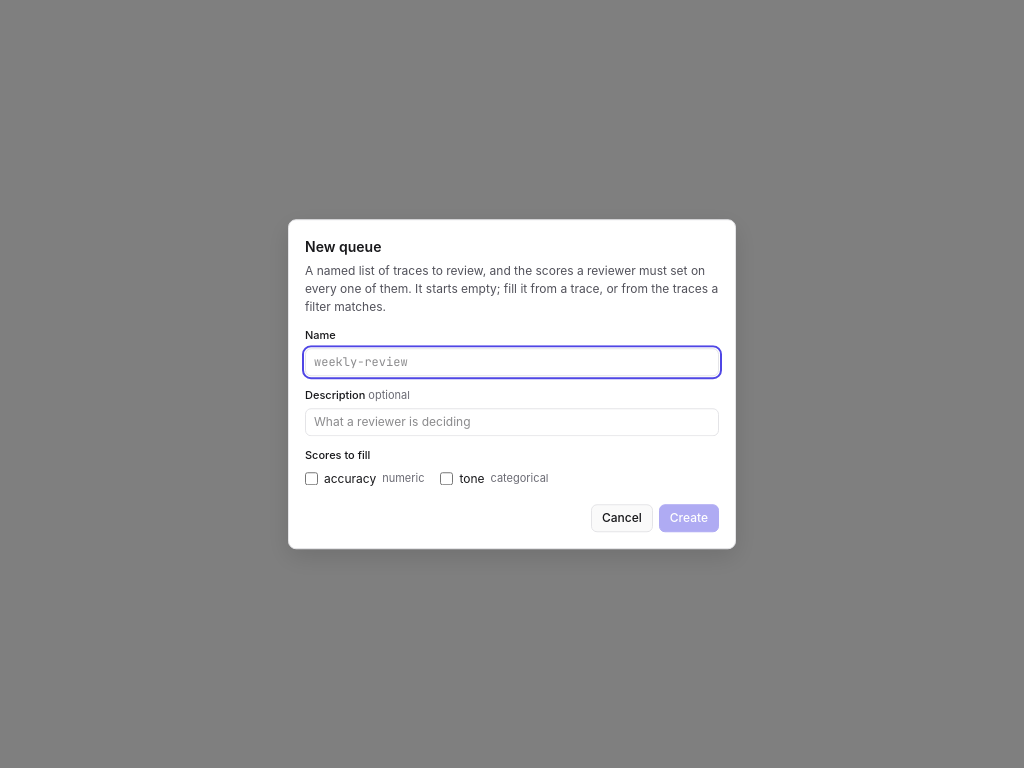
Scenario: the gate › refuses a name the server would refuse, and says which rule
Click the checkbox labelled "accuracy numeric".
click(312, 479)  # box [305,472,318,485]
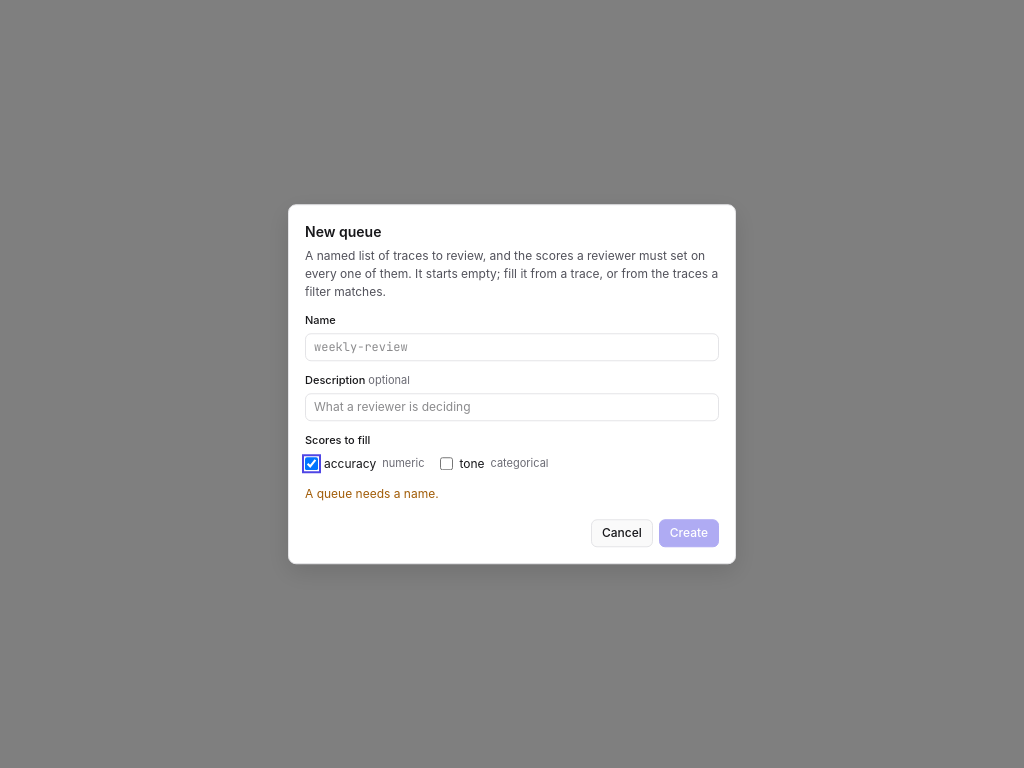
Type "-weekly" into the field labelled "Name".
click(512, 347); type("-weekly")  # box [305,333,719,361]
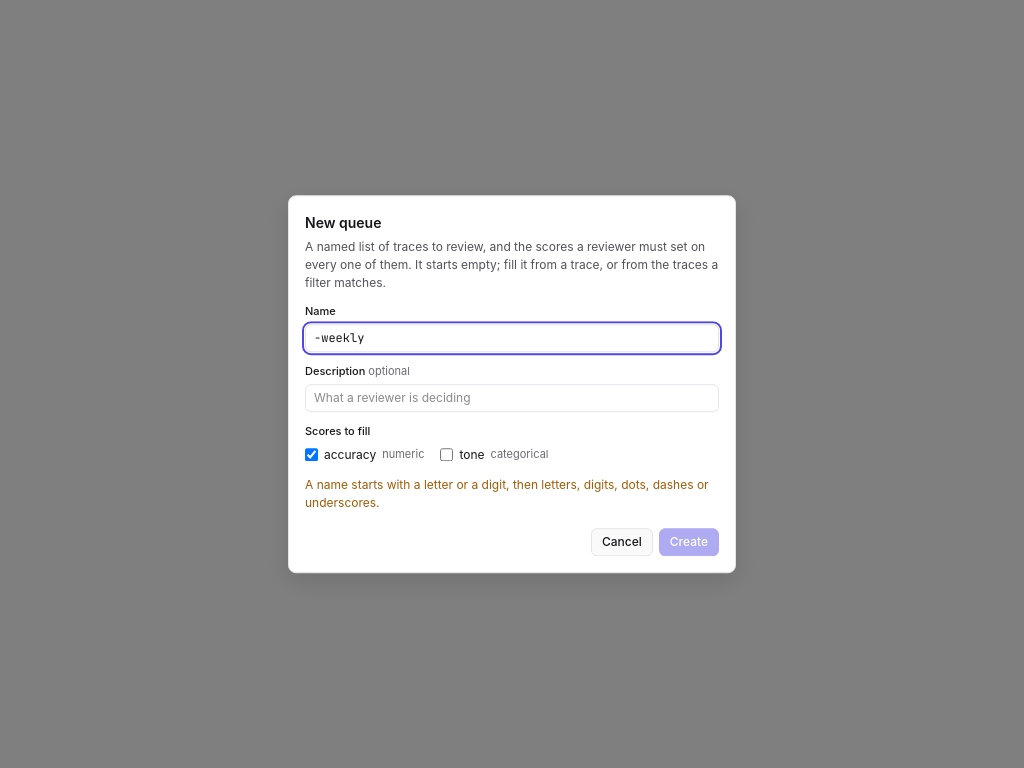
Expected: the button "Create" is disabled, [659,528,719,556]
Result: the text "starts with a letter or a digit" is shown at [305,477,709,510]
